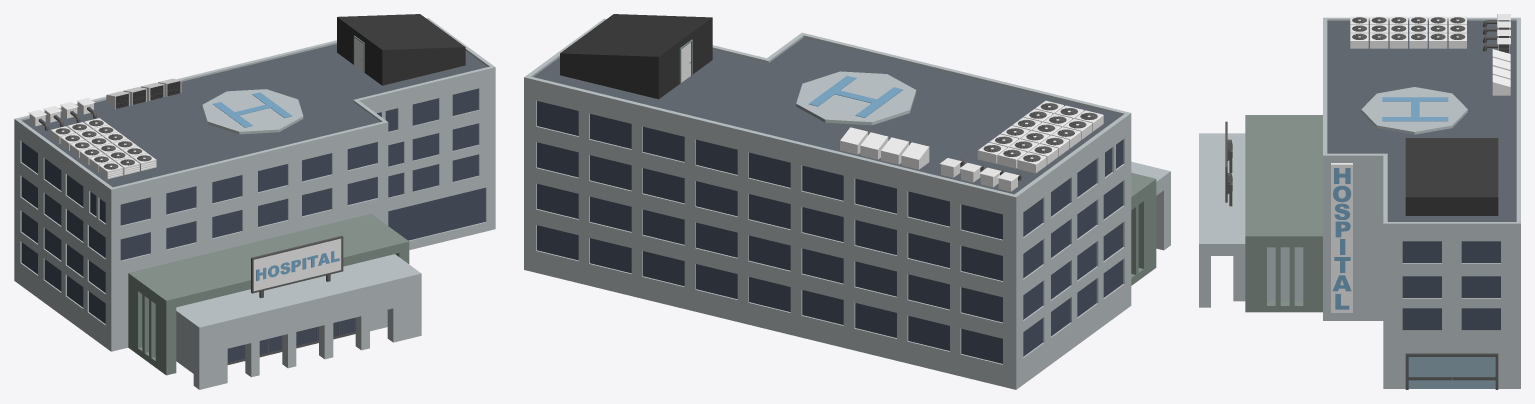
File: hospital.glb
3 renders of one model, left to right at view 1: azimuth 30°, elevation 25°; view 2: azimuth 150°, elevation 25°; view 3: azimuth 270°, elevation 25°, orthographic. The views are drawn at different scales.
Visible parts, largest first — view 1: Hospital; view 2: Hospital; view 3: Hospital.
Boxes of the visible parts, x1,y1,x2,y2 form: Hospital: (14,14,495,389); Hospital: (524,14,1170,389); Hospital: (1199,14,1520,389).
Bounding box in the file's own units: 34.95 × 15.79 × 22.95.
